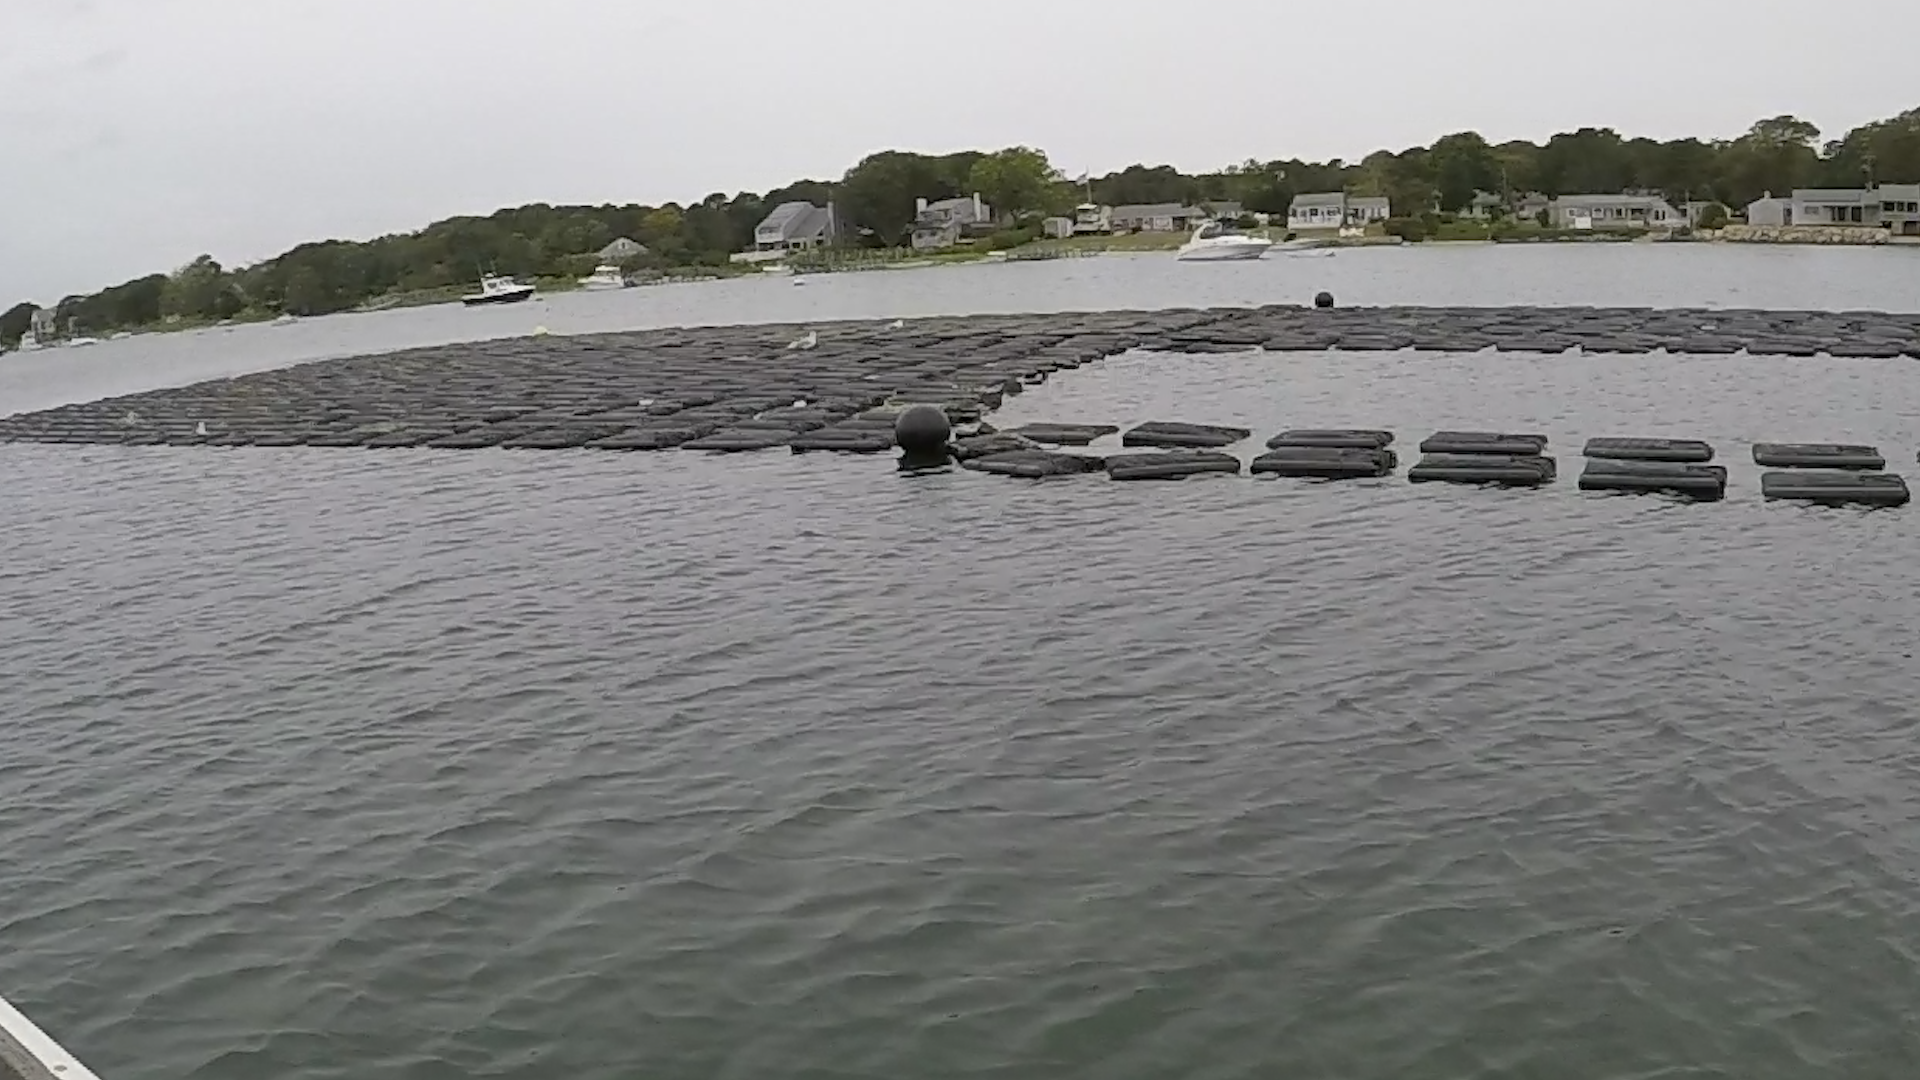bag: (1578, 458, 1729, 504), (1408, 454, 1560, 491), (1760, 468, 1908, 504), (1251, 452, 1400, 479)
